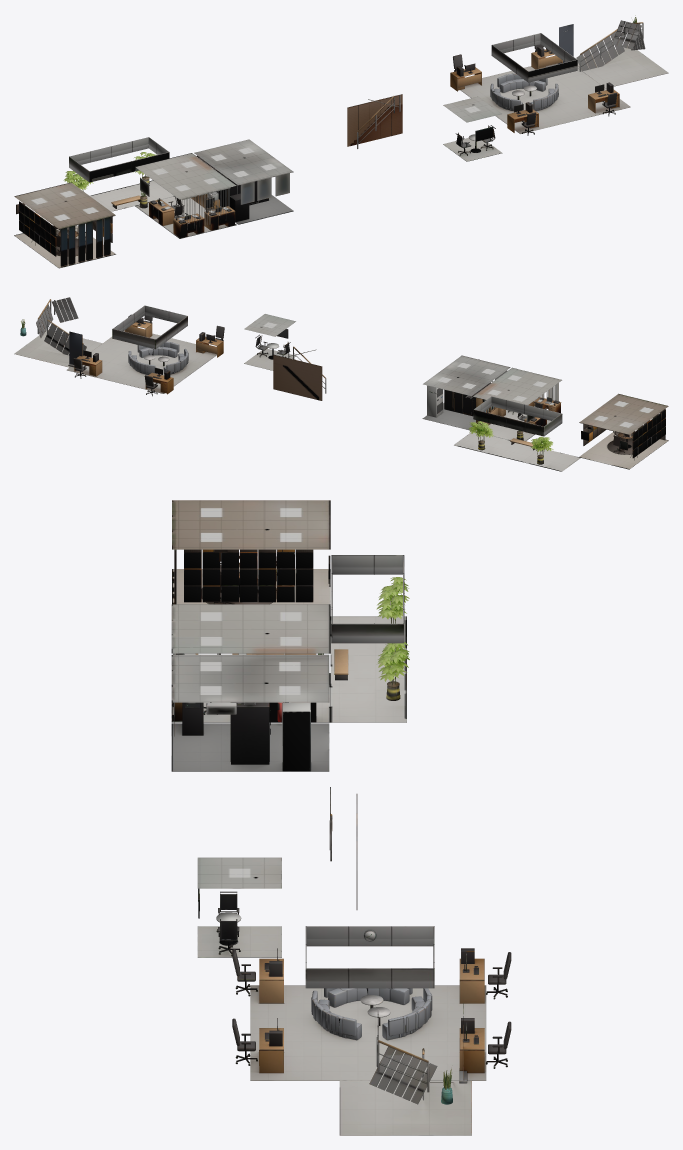
Rendered from world_in0.glb.
3 views of the same model, one above another, from view 1: azimuth 30°, elevation 25°; view 2: azimuth 150°, elevation 25°; view 3: azimuth 270°, elevation 25° (orthographic). The views are drawn at different scales.
Parts seen in each view (by area): view 1: W_in0; view 2: W_in0; view 3: W_in0.
Part boxes in pixels (x1=…): W_in0: x1=14, y1=15, x2=668, y2=268; W_in0: x1=14, y1=297, x2=668, y2=471; W_in0: x1=171, y1=500, x2=511, y2=1135.
Bounding box in the file's own units: 37.42 × 3.33 × 9.5.
1 material, 1 textured.
